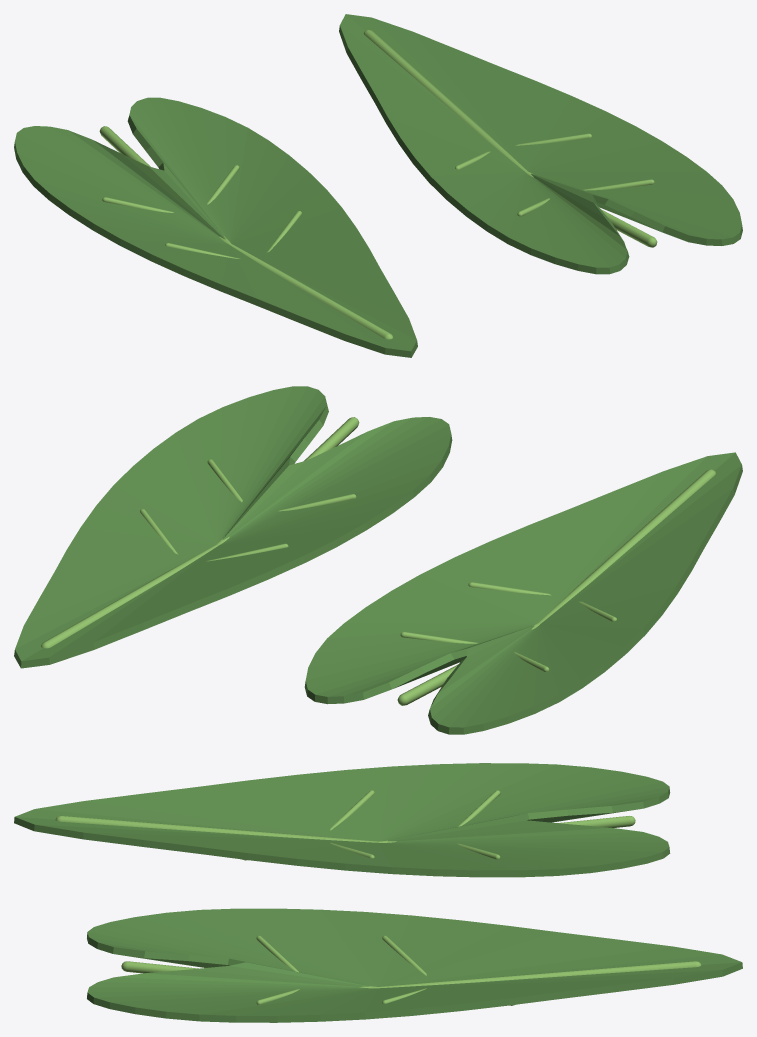
File: lotus_seedling.glb
The picture shows the model from 3 angles, top to bottom: view 1: azimuth 30°, elevation 25°; view 2: azimuth 150°, elevation 25°; view 3: azimuth 270°, elevation 25°; orthographic projection. The views are drawn at different scales.
Visible parts, largest first — view 1: Broad_shaped_leaf, Broad_shaped_leaf.001, Leaf_midvein, Leaf_midvein.001; view 2: Broad_shaped_leaf.001, Broad_shaped_leaf, Leaf_midvein.001, Leaf_midvein; view 3: Broad_shaped_leaf.001, Broad_shaped_leaf, Leaf_midvein, Leaf_midvein.001.
Boxes of the visible parts, x1,y1,x2,y2 form: Broad_shaped_leaf: (339, 14, 742, 274); Broad_shaped_leaf.001: (14, 97, 417, 357); Leaf_midvein: (364, 29, 657, 247); Leaf_midvein.001: (99, 126, 393, 339); Broad_shaped_leaf.001: (304, 452, 742, 734); Broad_shaped_leaf: (14, 386, 452, 668); Leaf_midvein.001: (397, 469, 715, 705); Leaf_midvein: (41, 417, 359, 648); Broad_shaped_leaf.001: (14, 763, 670, 877); Broad_shaped_leaf: (87, 908, 742, 1022); Leaf_midvein: (121, 961, 701, 988); Leaf_midvein.001: (55, 815, 635, 842).
Bounding box in the file's own units: 0.1272 × 0.0084 × 0.1542.
